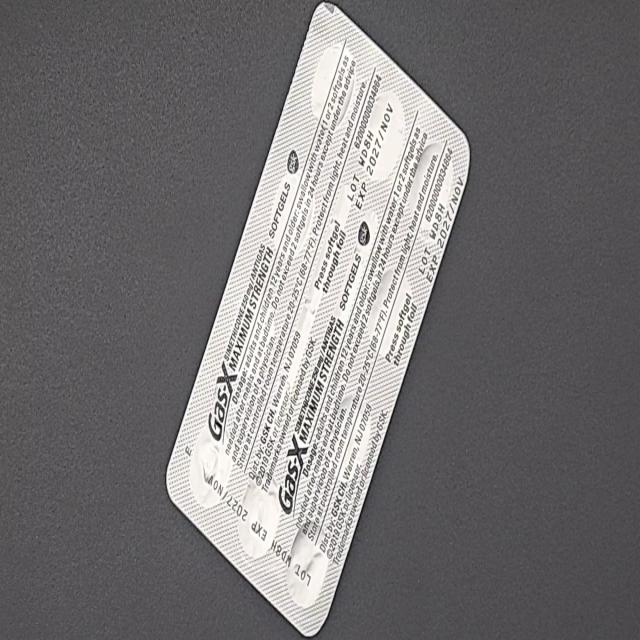no defect: (10, 16, 40, 64)
